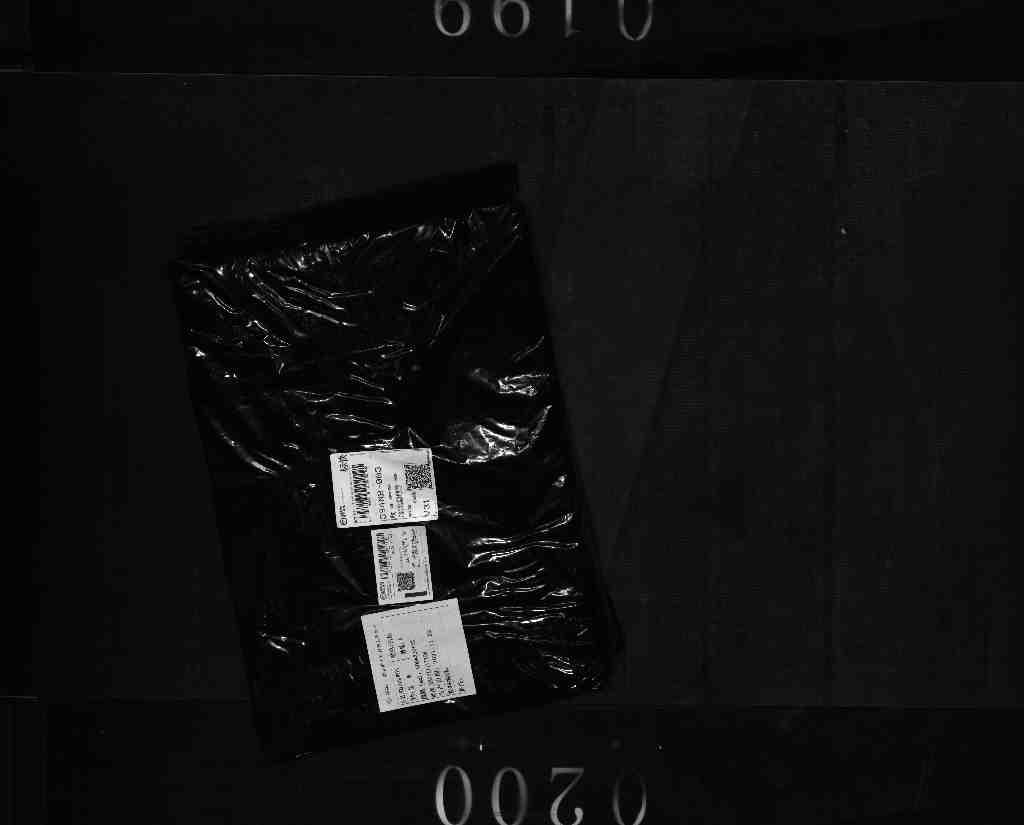box: (169, 188, 624, 750)
